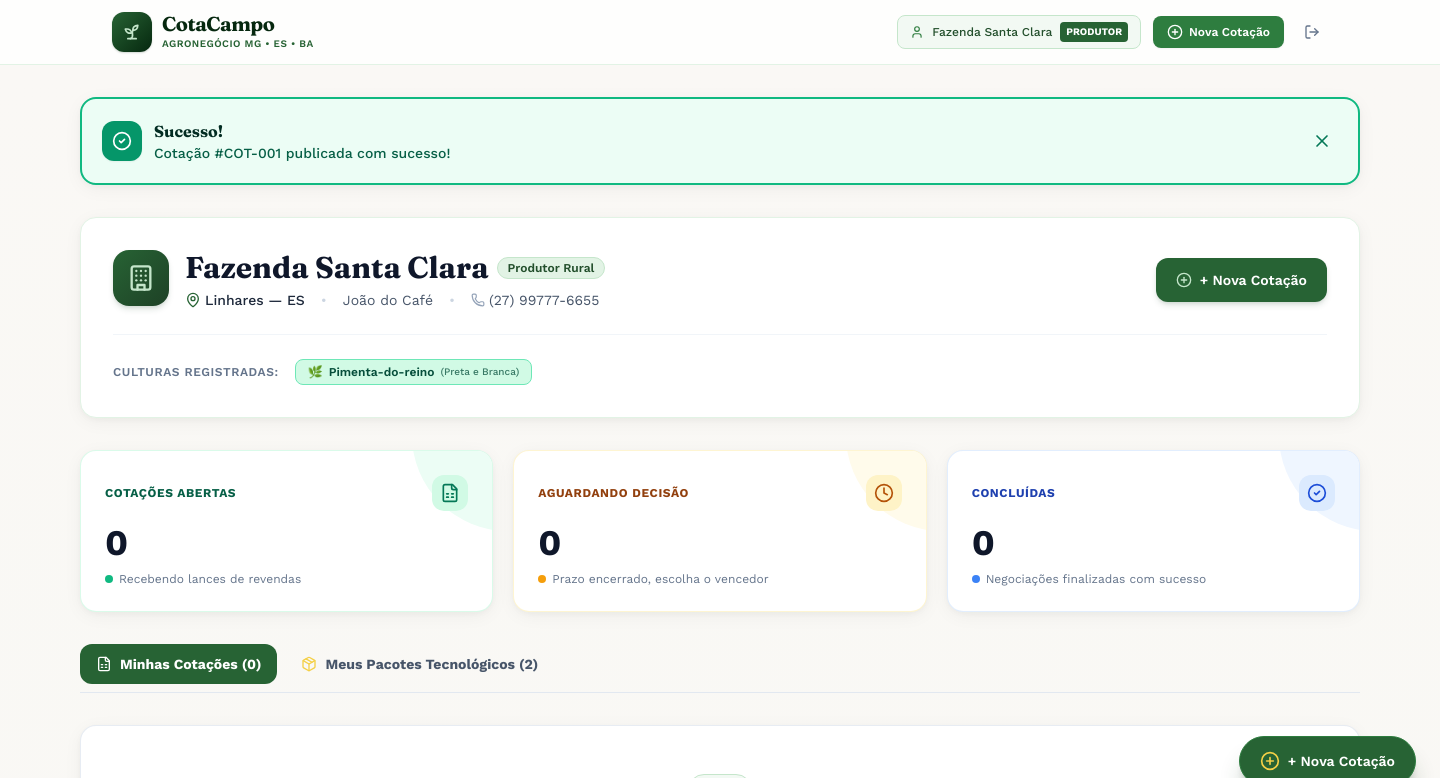
Test case: US05 – Dashboard e Gestão de Cotações do Produtor › US08: deve exibir banner de confirmação quando houver mensagem flash de cotação publicada e permitir dispensá-la
This screenshot has width=1440, height=778.
Expected: the message "Sucesso! Cotação #COT-001 publicada com sucesso!" is shown, [80, 97, 1360, 185]
Expected: the text "Cotação #COT-001 publicada com sucesso!" is shown, [154, 143, 450, 163]
Click the button named "Fechar aviso de cotação publicada" at (1322, 141), box [1306, 125, 1338, 157]
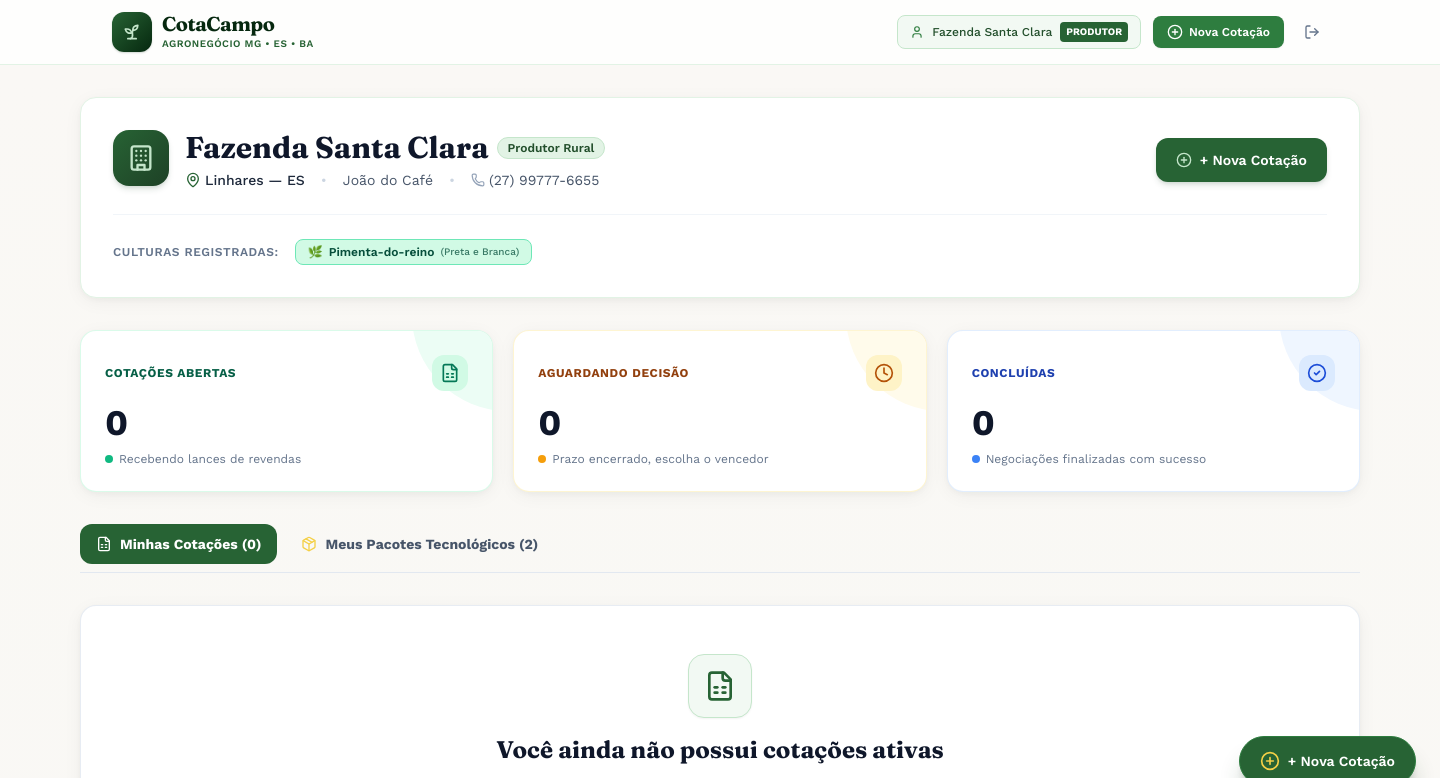
Expected: the text "Cotação #COT-001 publicada com sucesso!" is gone
